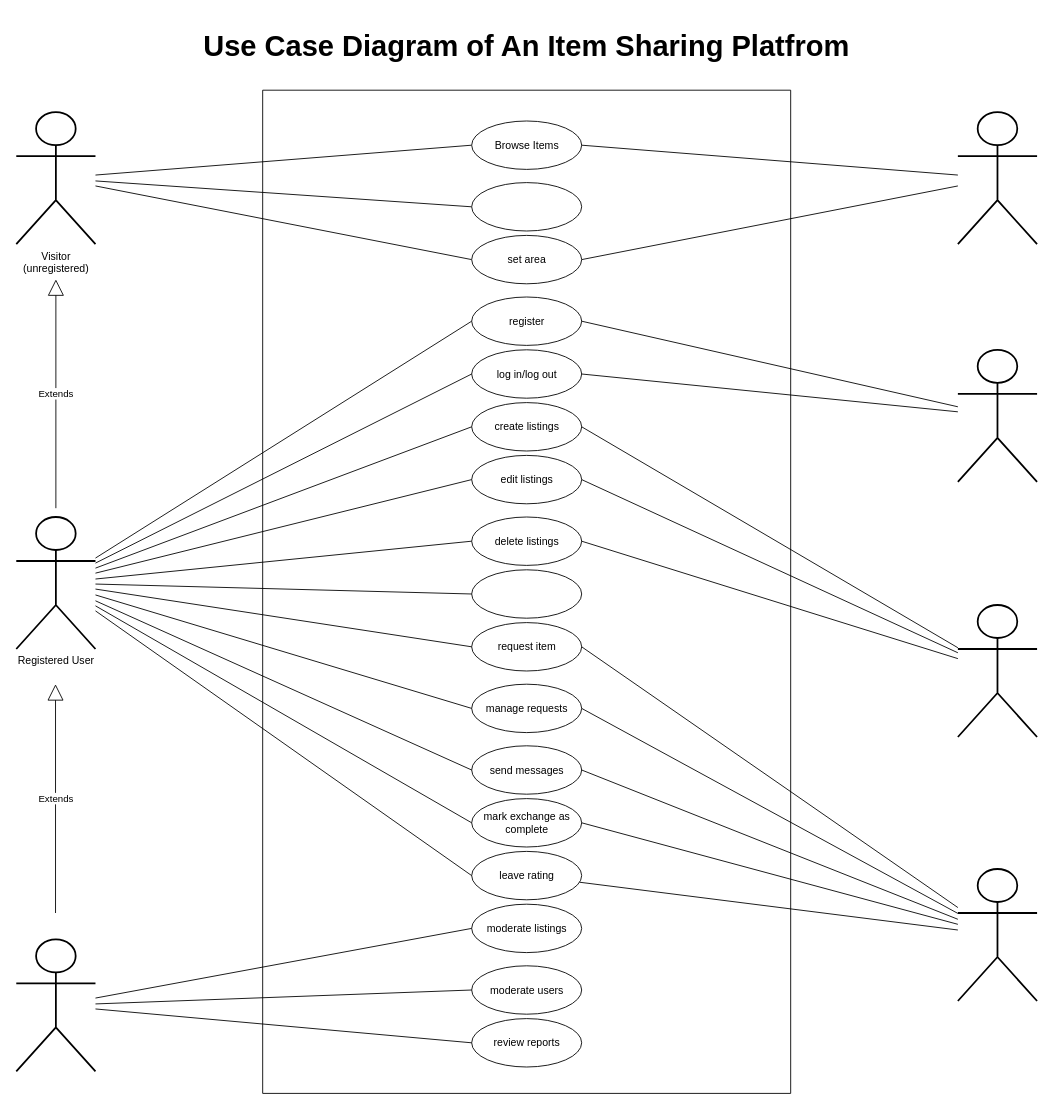
This 1052x1109 diagram has some shape labels left out. The box of each missing label's shape, as (x1, y1, x2, y2) in pixels:
Admin: (15, 938, 96, 1072)
Authentication Service: (957, 348, 1038, 482)
Map Services: (957, 111, 1038, 245)
Notification Service: (957, 868, 1038, 1001)
search & filter items: (471, 569, 582, 618)
Storage Service: (957, 604, 1038, 737)
View item details: (471, 182, 582, 231)
